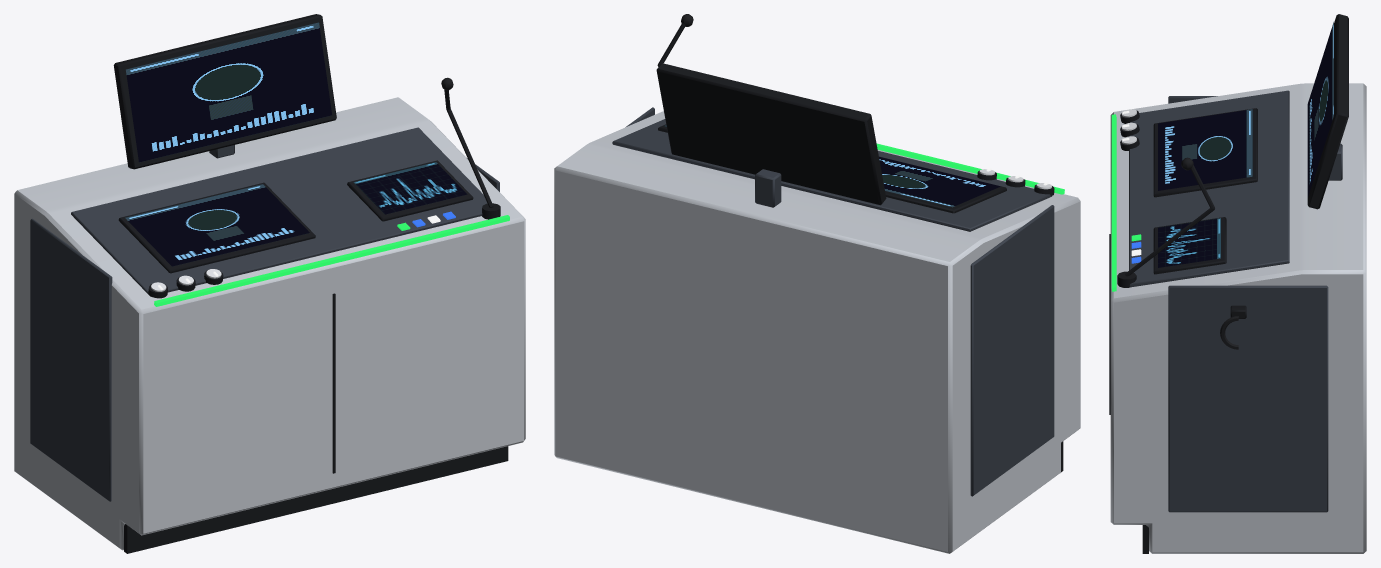
File: console_communications.glb
3 renders of one model, left to right at view 1: azimuth 30°, elevation 25°; view 2: azimuth 150°, elevation 25°; view 3: azimuth 270°, elevation 25°, orthographic. The views are drawn at different scales.
Visible parts, largest first — view 1: console_communications; view 2: console_communications; view 3: console_communications.
Boxes of the visible parts, <box> form: console_communications: <box>14,14,525,553</box>; console_communications: <box>554,14,1080,553</box>; console_communications: <box>1109,14,1366,553</box>.
Size of the model in its own units: 1.48 by 1.37 by 0.804.
10 materials, 2 textured.
